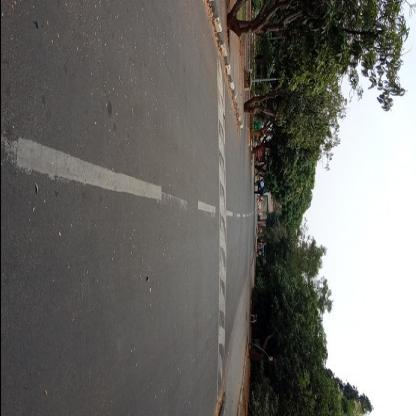speed-bumps: (210, 51, 234, 394)
